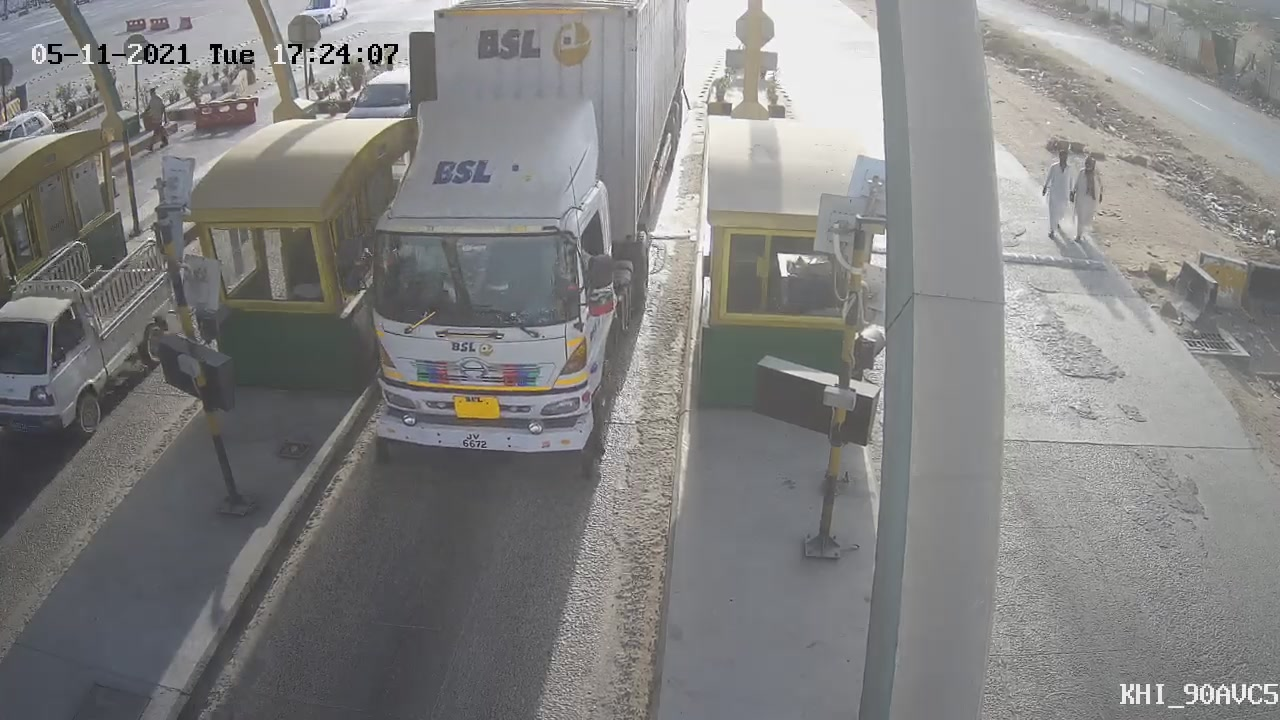F6: (314, 3, 707, 491)
